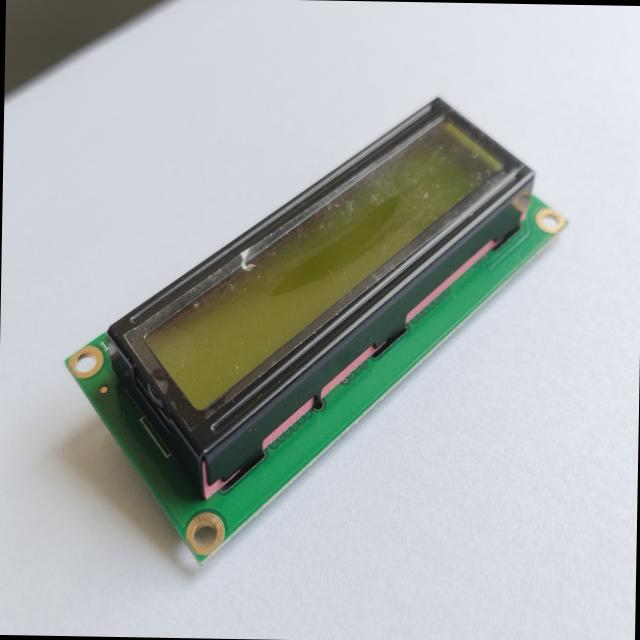lcd: (58, 81, 590, 578)
